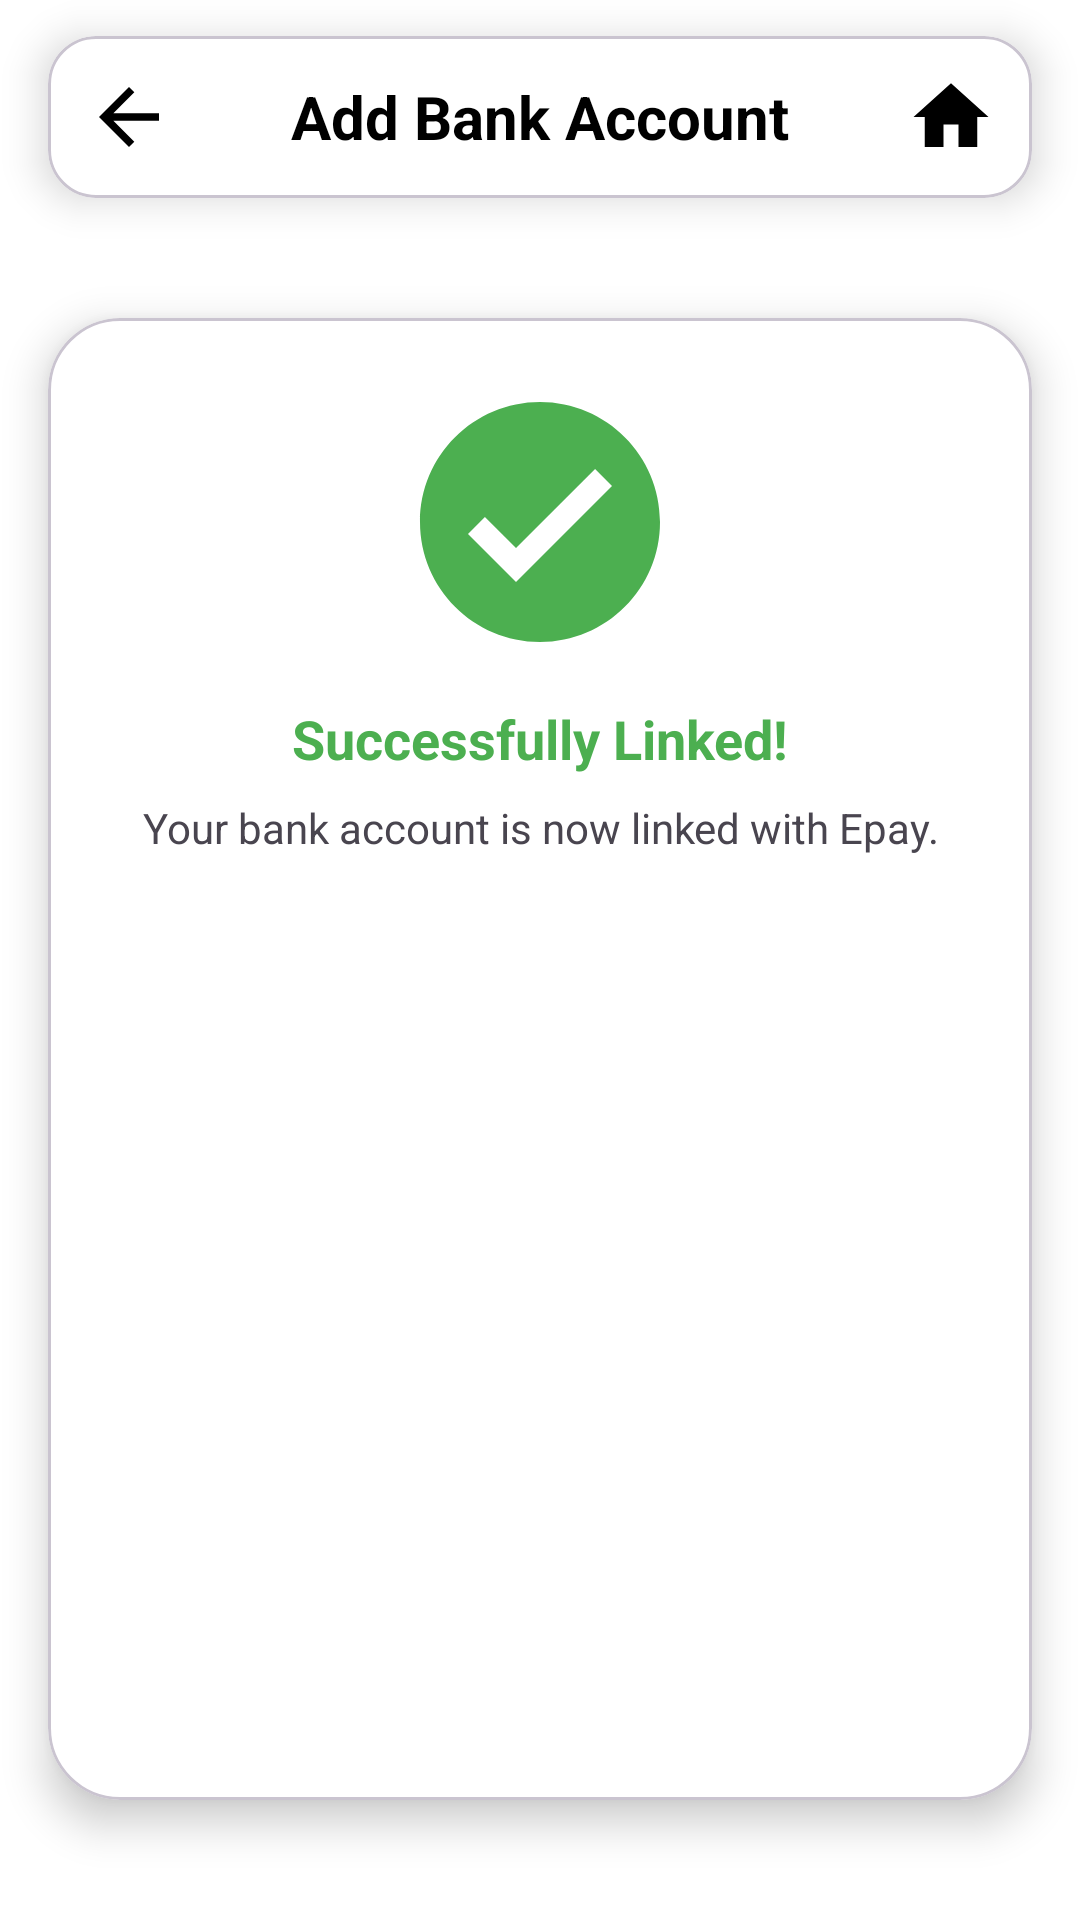

Icons on this 1080x1920 Android screen, each with the point to tap as (x,y):
arrow back: (129,117)
home: (951,115)
